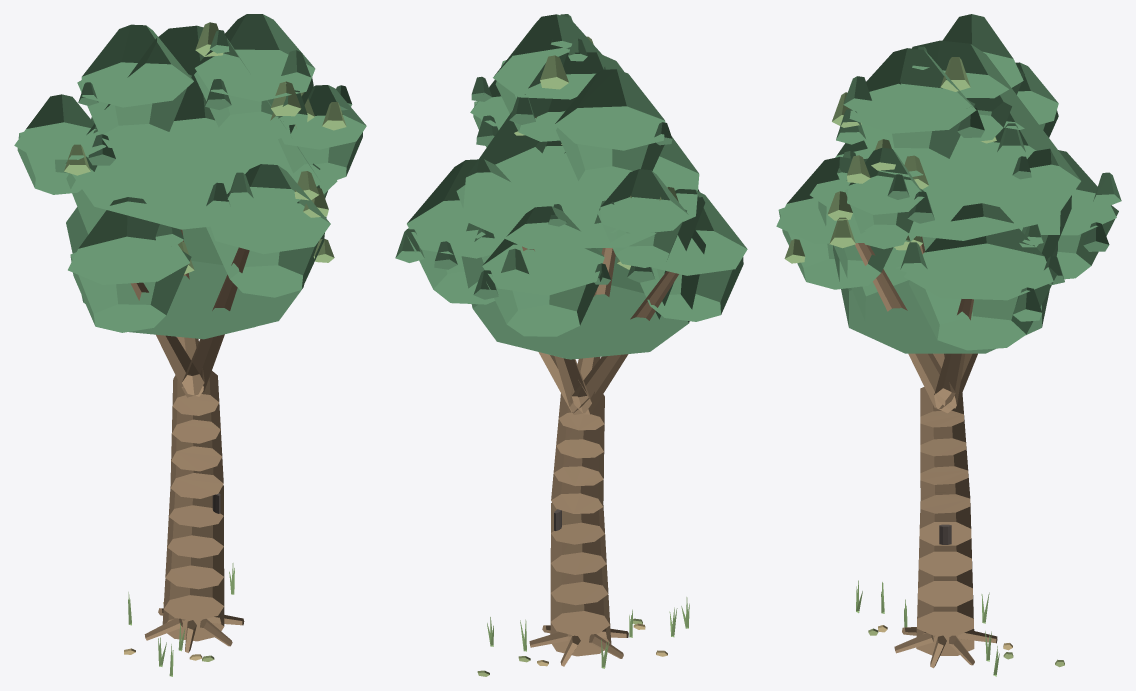
Rendered from tree_oak.glb.
3 renders of one model, left to right at view 1: azimuth 30°, elevation 25°; view 2: azimuth 150°, elevation 25°; view 3: azimuth 270°, elevation 25°, orthographic. The views are drawn at different scales.
Visible parts, largest first — view 1: Crown#2, Crown.Under, Crown#4, Crown#14, Crown#12, Crown#8, Crown#3, Crown#7, Crown#18, Crown#13, Crown#11, Crown#16 (+19 smaller); view 2: Crown#2, Crown.Under, Crown#14, Crown#10, Crown#12, Crown#6, Crown#18, Crown#9, Crown#4, Crown#13, Crown#3, Branch (+20 smaller); view 3: Crown#2, Crown#6, Crown#12, Crown#5, Crown.Under, Crown#7, Crown#8, Crown#14, Crown#16, Crown#11, Crown#10, Crown (+27 smaller).
Boxes of the visible parts, x1,y1,x2,y2 form: Crown#2: (65, 25, 321, 229); Crown.Under: (66, 207, 303, 339); Crown#4: (68, 197, 189, 284); Crown#14: (81, 24, 193, 107); Crown#12: (195, 14, 315, 101); Crown#8: (211, 164, 330, 254); Crown#3: (70, 250, 191, 332); Crown#7: (206, 216, 326, 297); Crown#18: (14, 94, 105, 159); Crown#13: (77, 74, 191, 151); Crown#11: (194, 72, 313, 143); Crown#16: (281, 85, 366, 149); Crown#2: (462, 52, 699, 249); Crown.Under: (461, 230, 705, 359); Crown#14: (554, 69, 665, 150); Crown#10: (482, 206, 604, 295); Crown#12: (493, 14, 602, 99); Crown#6: (407, 159, 510, 258); Crown#18: (600, 169, 688, 234); Crown#9: (484, 269, 603, 336); Crown#4: (650, 189, 747, 275); Crown#13: (556, 127, 668, 192); Crown#3: (640, 257, 743, 321); Branch: (571, 271, 678, 414); Crown#2: (810, 40, 1080, 240); Crown#6: (904, 203, 1053, 300); Crown#12: (849, 48, 976, 133); Crown#5: (909, 267, 1057, 350); Crown.Under: (833, 243, 1057, 353); Crown#7: (778, 207, 893, 289); Crown#8: (776, 157, 864, 243); Crown#14: (942, 14, 1023, 98); Crown#16: (847, 147, 924, 214); Crown#11: (861, 100, 974, 177); Crown#10: (1019, 148, 1116, 235); Crown: (818, 195, 1071, 321).
Size of the model in its own units: 7.5 by 15.08 by 7.7.
